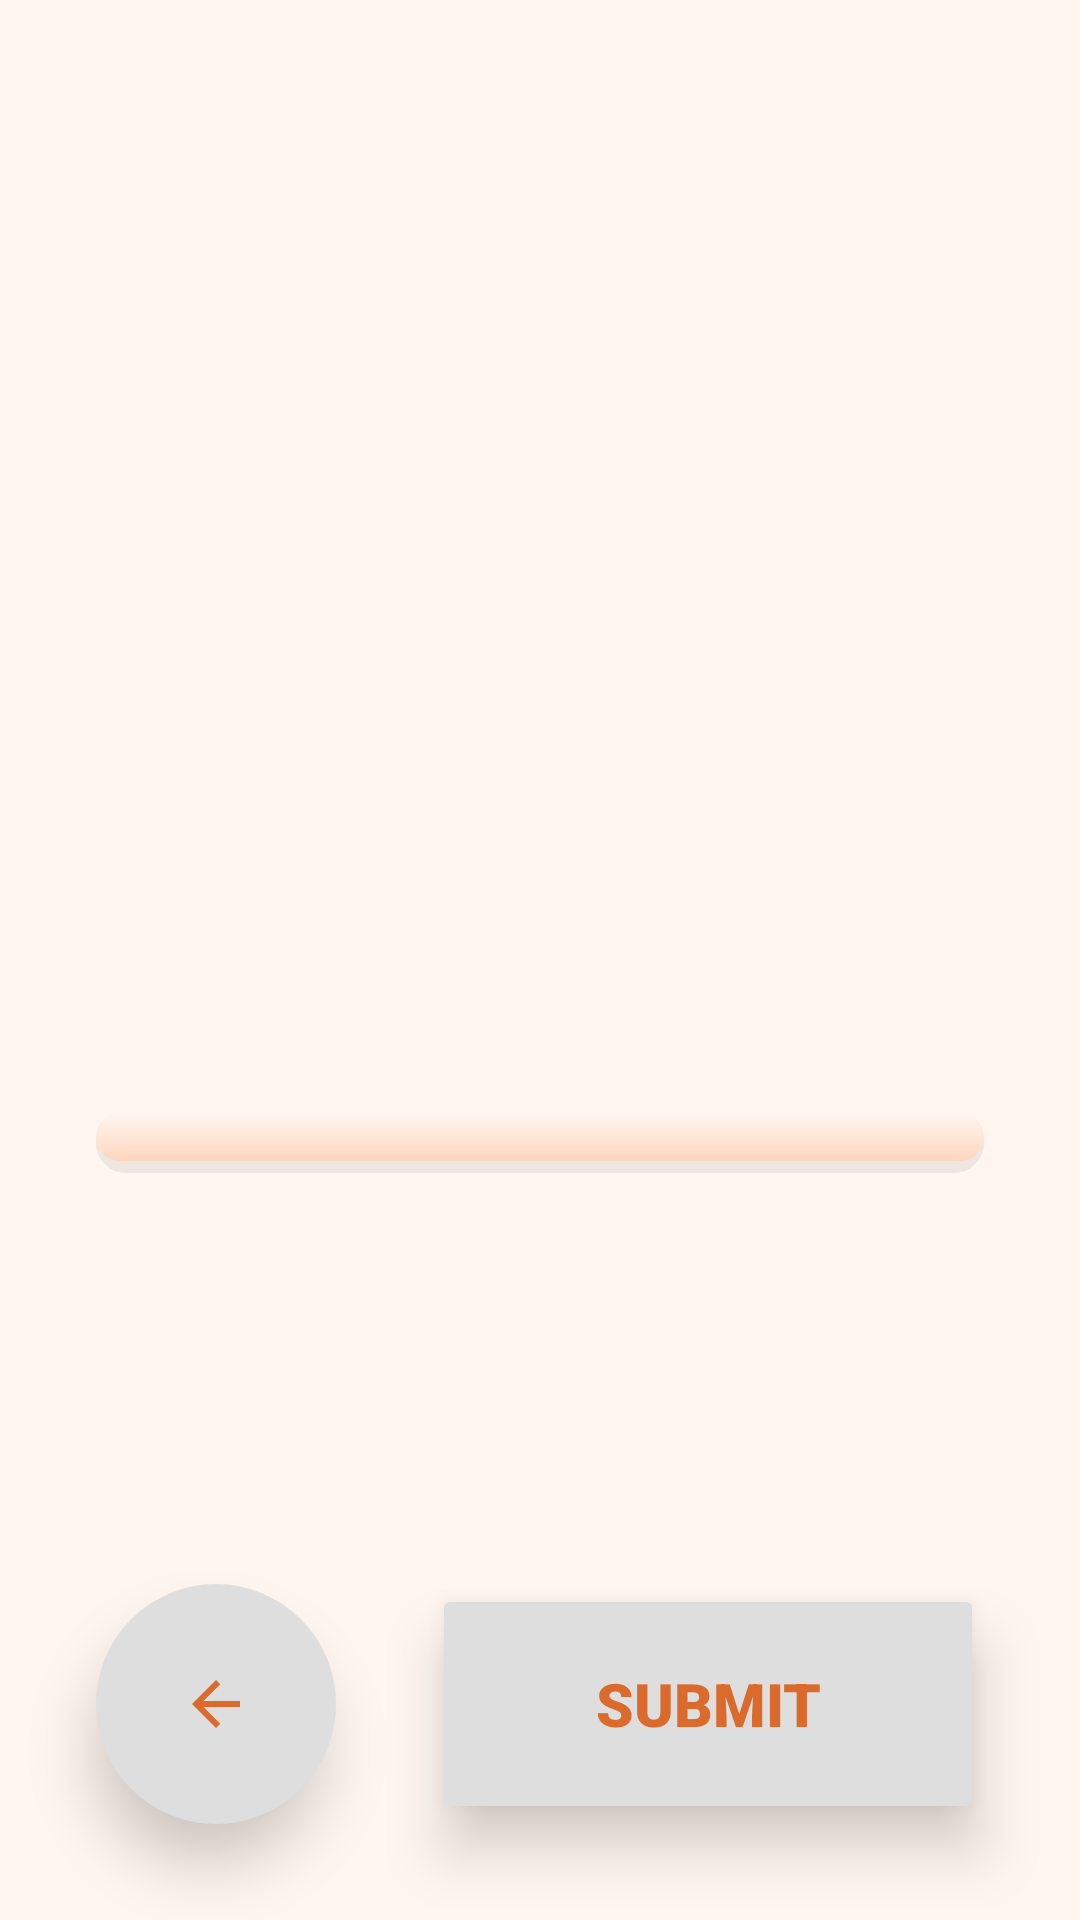

Icons on this 1080px×1920px Android screen, each with the point to tap as point (x, y):
arrow back: point (216, 1704)
